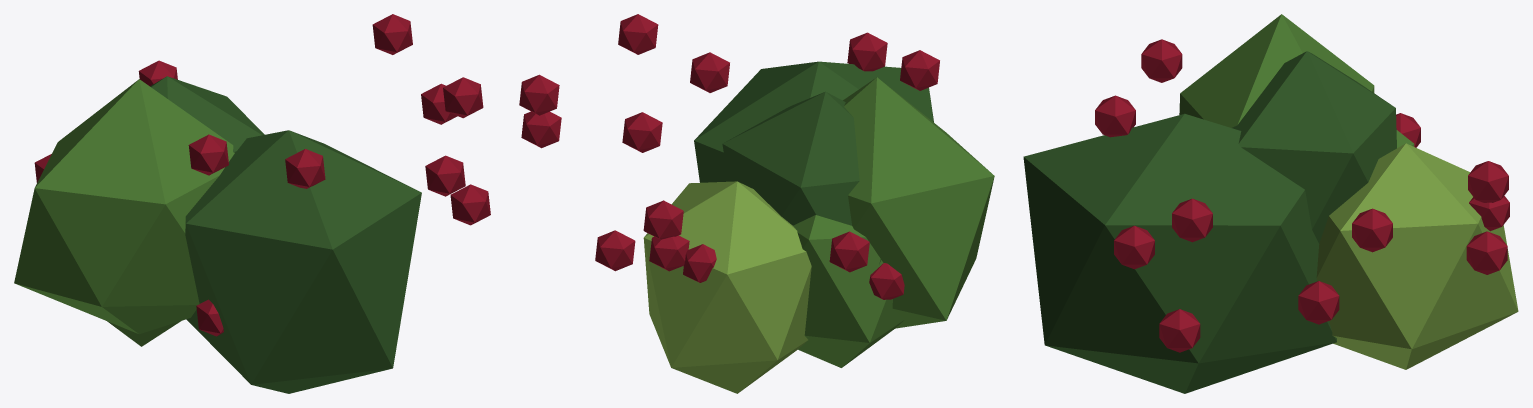
File: UM_Beerenstrauch.fbx
3 views of the same model, side by side, from view 1: azimuth 30°, elevation 25°; view 2: azimuth 150°, elevation 25°; view 3: azimuth 270°, elevation 25° (orthographic). The views are drawn at different scales.
Parts seen in each view (by area): view 1: UM_Beerenstrauch; view 2: UM_Beerenstrauch; view 3: UM_Beerenstrauch.
Boxes of the visible parts, left/top/right/bottom form: UM_Beerenstrauch: left=14, top=14, right=490, bottom=393; UM_Beerenstrauch: left=519, top=14, right=994, bottom=393; UM_Beerenstrauch: left=1023, top=14, right=1518, bottom=393.
Bounding box in the file's own units: 2.05 × 1.34 × 1.84.
